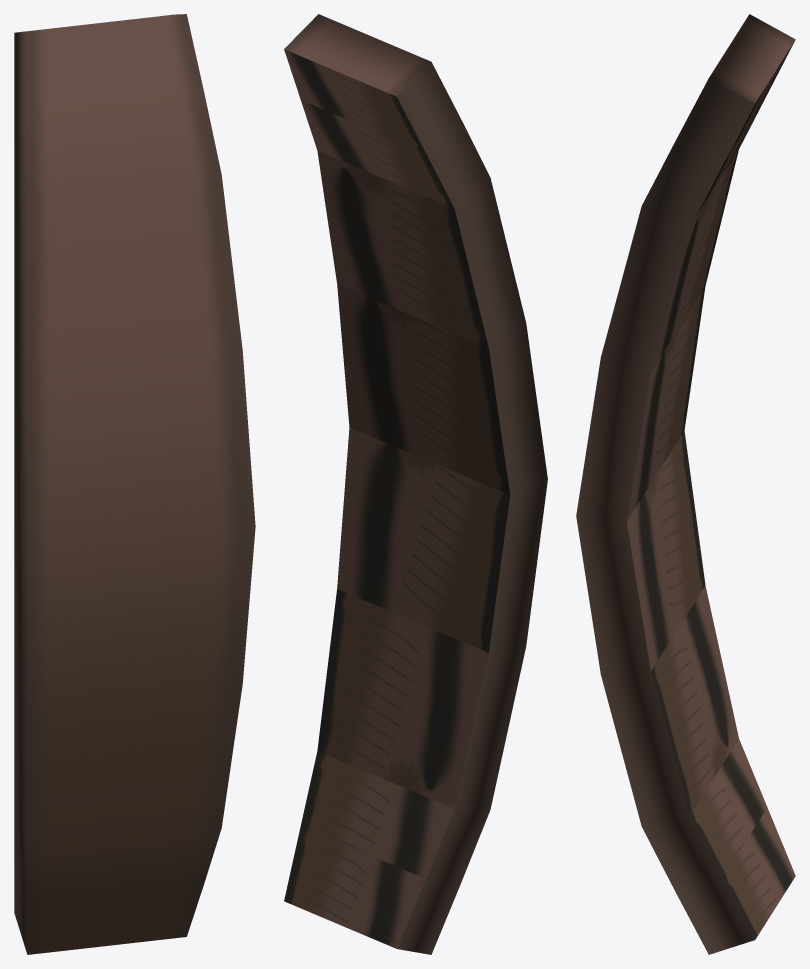
The model's file is Barrel_Piece4.fbx.
3 renders of one model, left to right at view 1: azimuth 30°, elevation 25°; view 2: azimuth 150°, elevation 25°; view 3: azimuth 270°, elevation 25°, orthographic. The views are drawn at different scales.
Visible parts, largest first — view 1: Barrel_Piece_4; view 2: Barrel_Piece_4; view 3: Barrel_Piece_4.
Part boxes in pixels (bbox=[...]): Barrel_Piece_4: bbox=[14, 14, 255, 954]; Barrel_Piece_4: bbox=[284, 14, 547, 954]; Barrel_Piece_4: bbox=[576, 14, 795, 954].
Size of the model in its own units: 33.28 by 140 by 31.88.
1 material, 1 textured.
